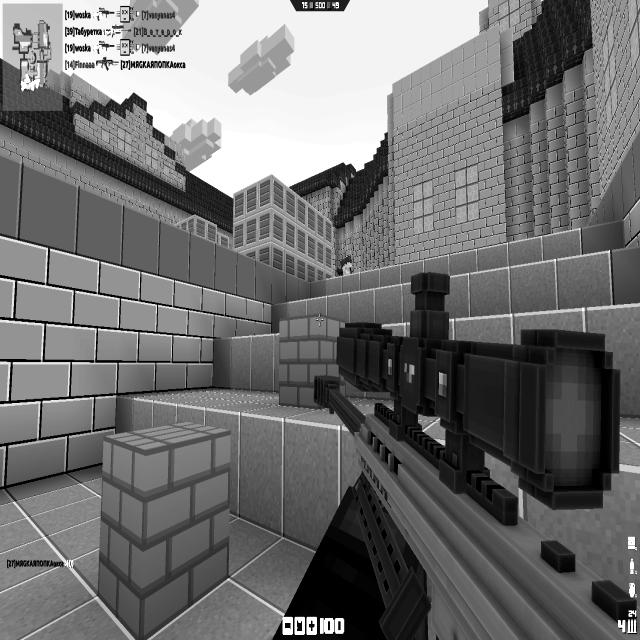Head: (341, 256, 353, 268)
Player: (339, 255, 354, 277)
